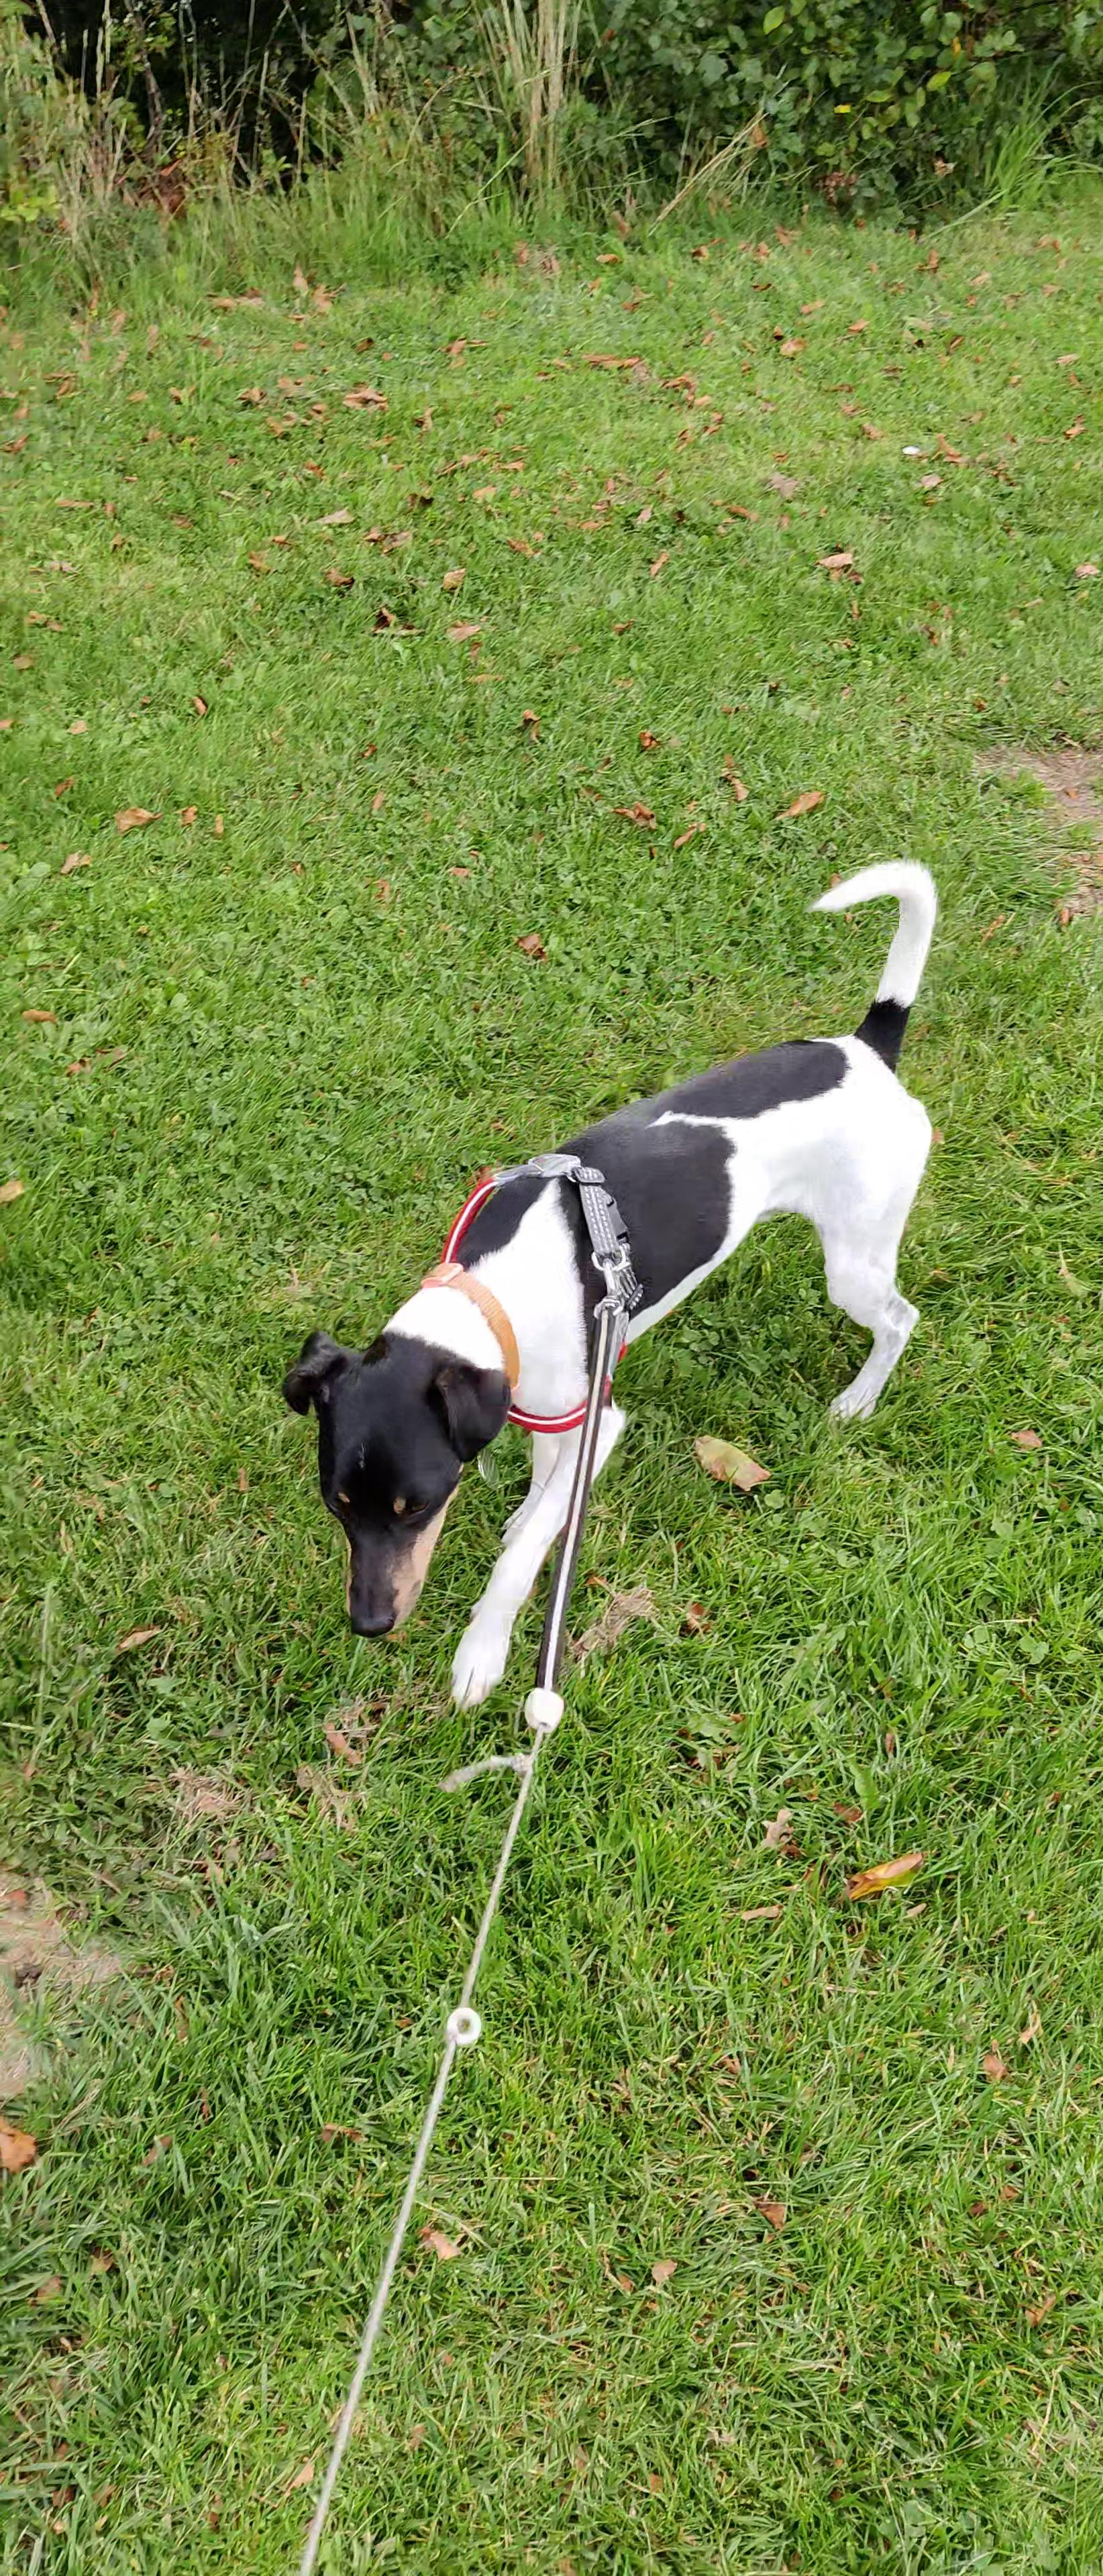Dog: (253, 830, 957, 1745)
